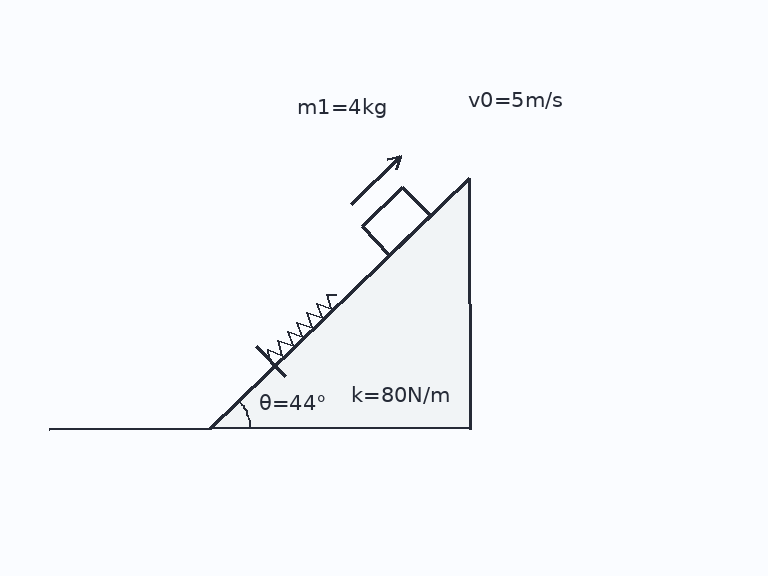block: (359, 184, 432, 256)
ramp: (208, 176, 471, 430)
spring: (266, 292, 338, 361)
